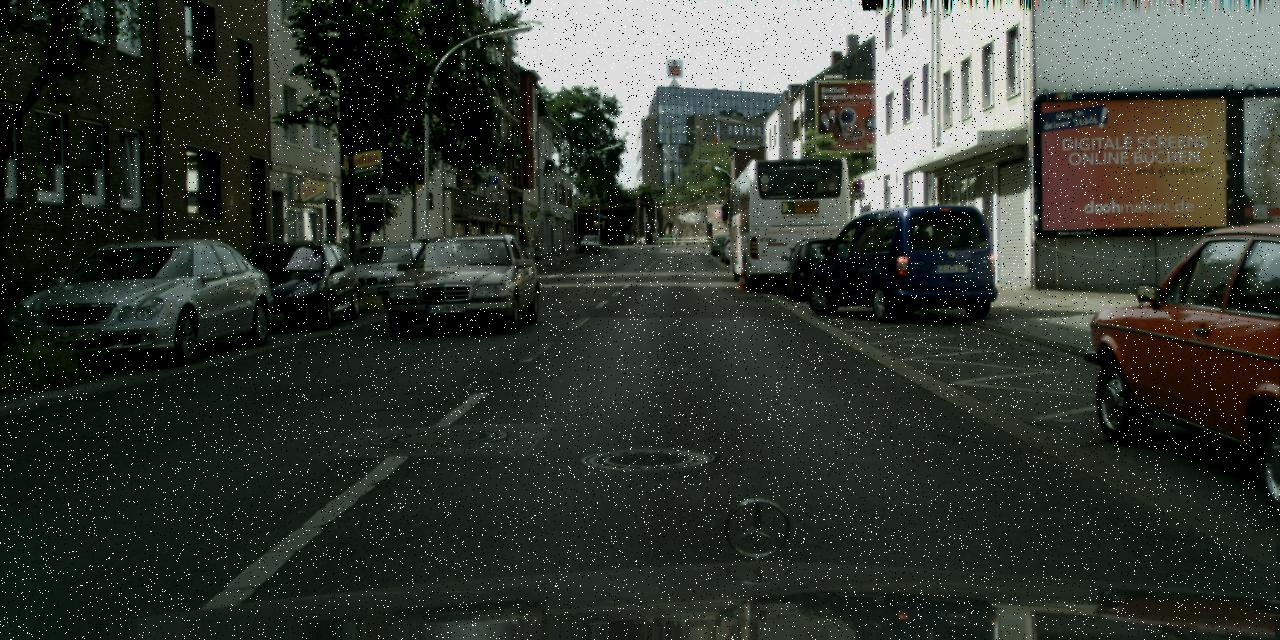ped: (624, 233, 629, 245), (630, 233, 634, 245)
